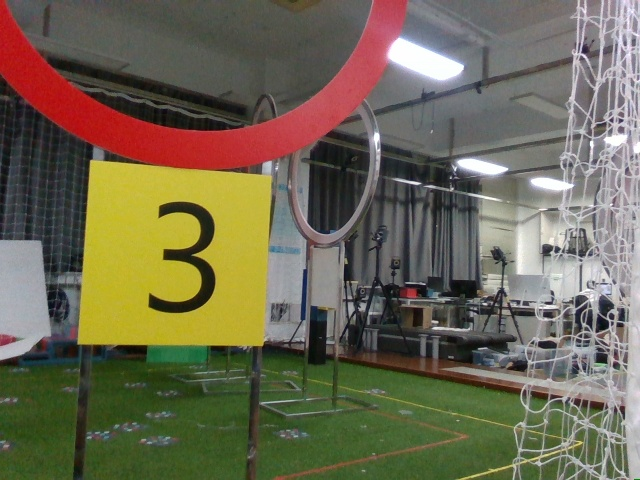target: (90, 175, 259, 345)
